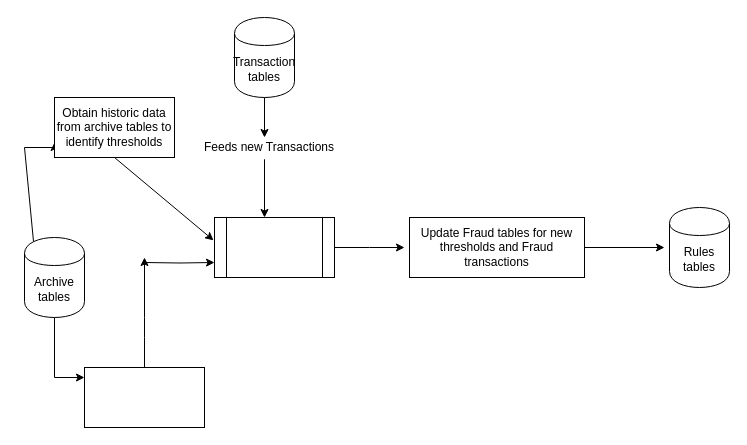
The diagram is 747 pixels wide and 445 high, and some of its shapes have lost their labels. Each missing label, with the centre of its shape:
Apply algorithm on attributes: [274,247]
Update Archive tables for new transactions: [144,397]
